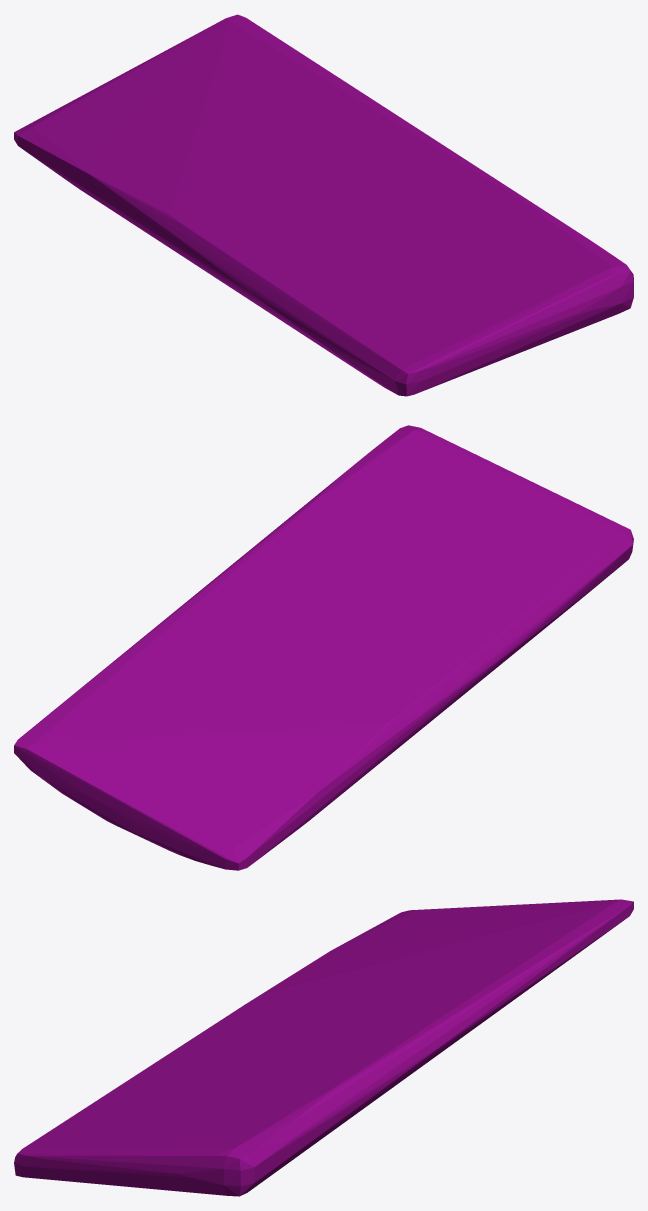
The model's file is right-shoulder-yaw-0_part_14.obj.
The picture shows the model from 3 angles, top to bottom: view 1: azimuth 30°, elevation 25°; view 2: azimuth 150°, elevation 25°; view 3: azimuth 330°, elevation 25°; orthographic projection.
Size of the model in its own units: 0.0196 by 0.00851 by 0.0562.
